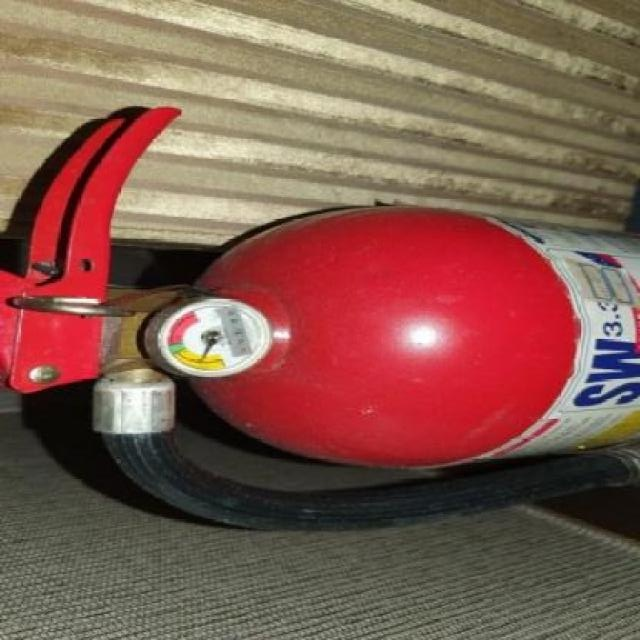fire extinguisher: (0, 107, 640, 533)
